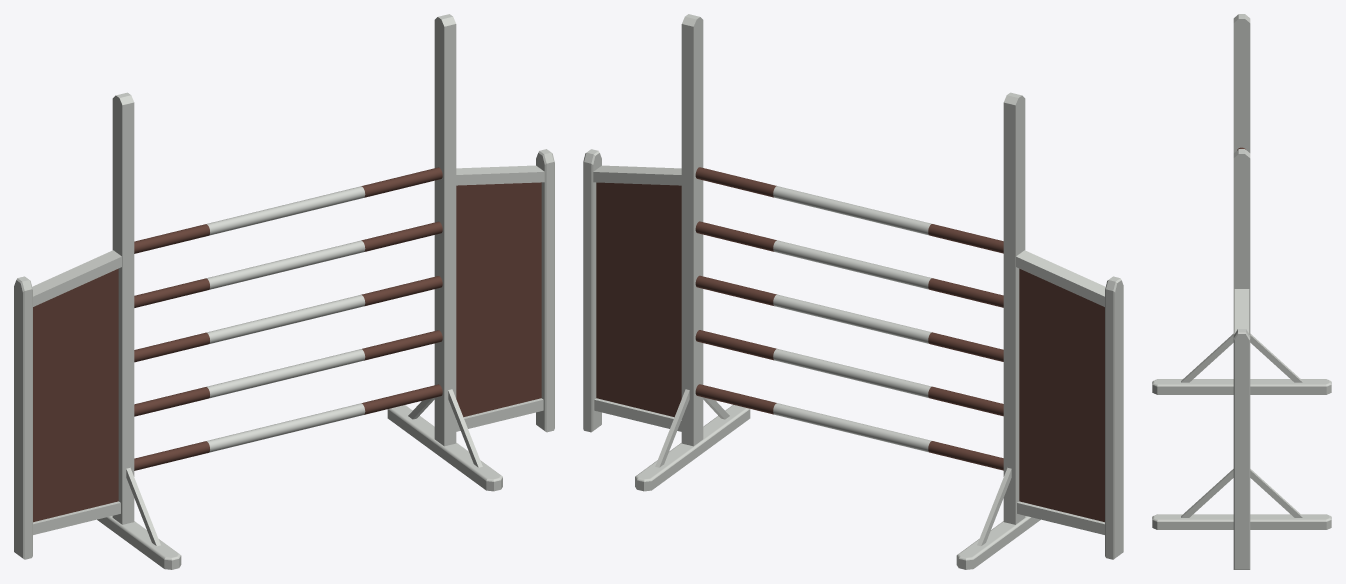
File: obstaculo.fbx
3 views of the same model, side by side, from view 1: azimuth 30°, elevation 25°; view 2: azimuth 150°, elevation 25°; view 3: azimuth 270°, elevation 25° (orthographic). The views are drawn at different scales.
Visible parts, largest first — view 1: Group4, Group28, Group27, Group3, Group8, Group12, Group16, Group20, Group24, Group21, Group9, Group17 (+7 smaller); view 2: Group4, Group28, Group27, Group3, Group8, Group16, Group20, Group12, Group24, Group17, Group25, Group13 (+7 smaller); view 3: Group27, Group3, Group28.
Boxes of the visible parts, <box> form: Group4: <box>14,250,121,559</box>; Group28: <box>456,149,554,432</box>; Group27: <box>387,14,502,491</box>; Group3: <box>97,92,181,569</box>; Group8: <box>206,295,365,343</box>; Group12: <box>206,349,365,398</box>; Group16: <box>206,403,365,452</box>; Group20: <box>206,240,365,289</box>; Group24: <box>206,186,365,235</box>; Group21: <box>361,221,442,251</box>; Group9: <box>361,276,442,306</box>; Group17: <box>361,384,442,414</box>; Group4: <box>1016,250,1123,559</box>; Group28: <box>583,149,681,432</box>; Group27: <box>635,14,750,491</box>; Group3: <box>956,92,1040,569</box>; Group8: <box>773,294,931,343</box>; Group16: <box>773,403,931,452</box>; Group20: <box>773,240,932,289</box>; Group12: <box>773,349,931,397</box>; Group24: <box>773,186,931,235</box>; Group17: <box>695,384,776,414</box>; Group25: <box>695,167,776,197</box>; Group13: <box>695,330,776,360</box>; Group27: <box>1152,149,1331,529</box>; Group3: <box>1152,14,1331,394</box>; Group28: <box>1233,289,1250,569</box>.
Size of the model in its own units: 3.86 by 3.02 by 1.31.
